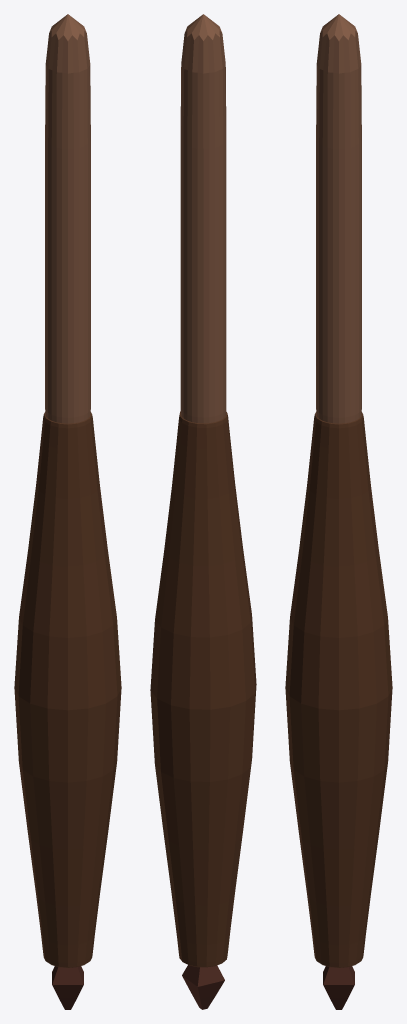
File: Wand 115.glb
The picture shows the model from 3 angles, left to right: view 1: azimuth 90°, elevation 25°; view 2: azimuth 210°, elevation 25°; view 3: azimuth 270°, elevation 25°; orthographic projection.
Parts seen in each view (by area): view 1: GeneratedWand; view 2: GeneratedWand; view 3: GeneratedWand.
Boxes of the visible parts, <box> form: GeneratedWand: <box>14,14,121,1009</box>; GeneratedWand: <box>150,14,256,1009</box>; GeneratedWand: <box>285,14,392,1009</box>.
Size of the model in its own units: 0.0499 by 0.5105 by 0.0499.
